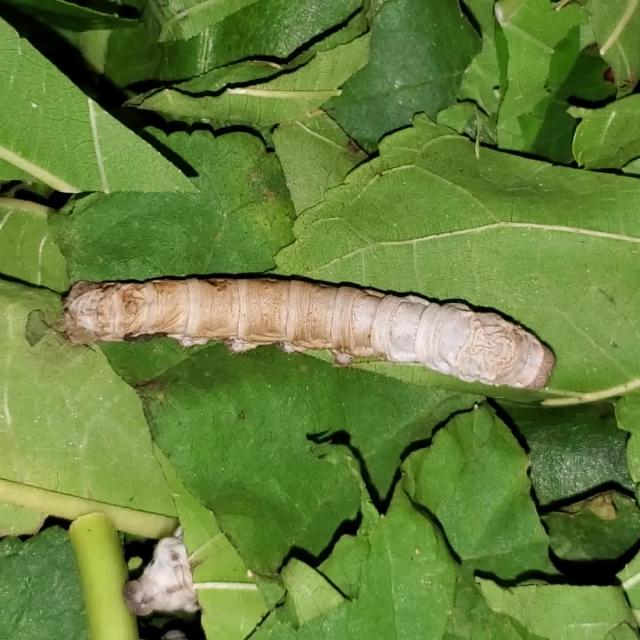Grasserie: (54, 256, 556, 404)
